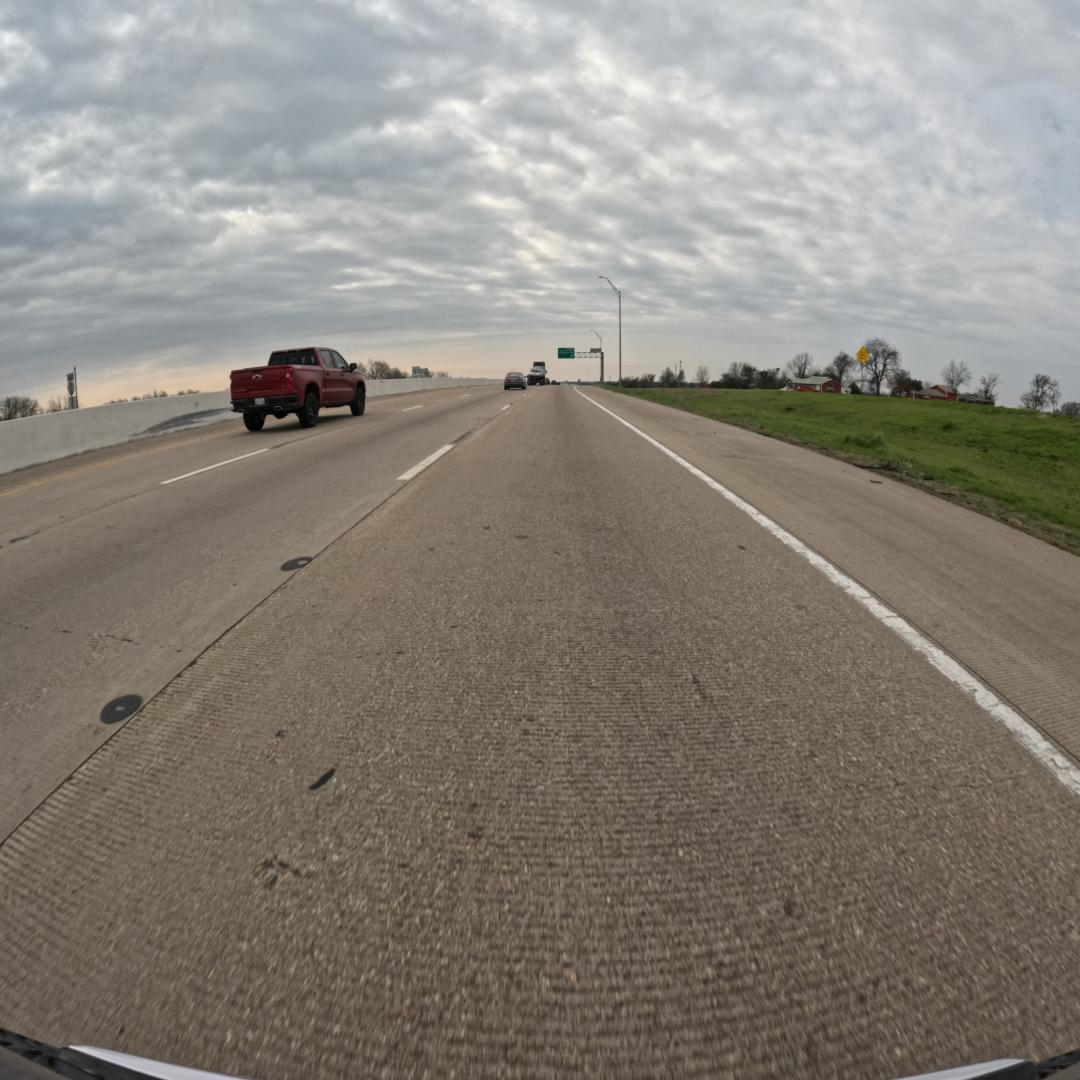lane0: (0, 388, 1080, 1077)
lane1: (0, 392, 509, 843)
